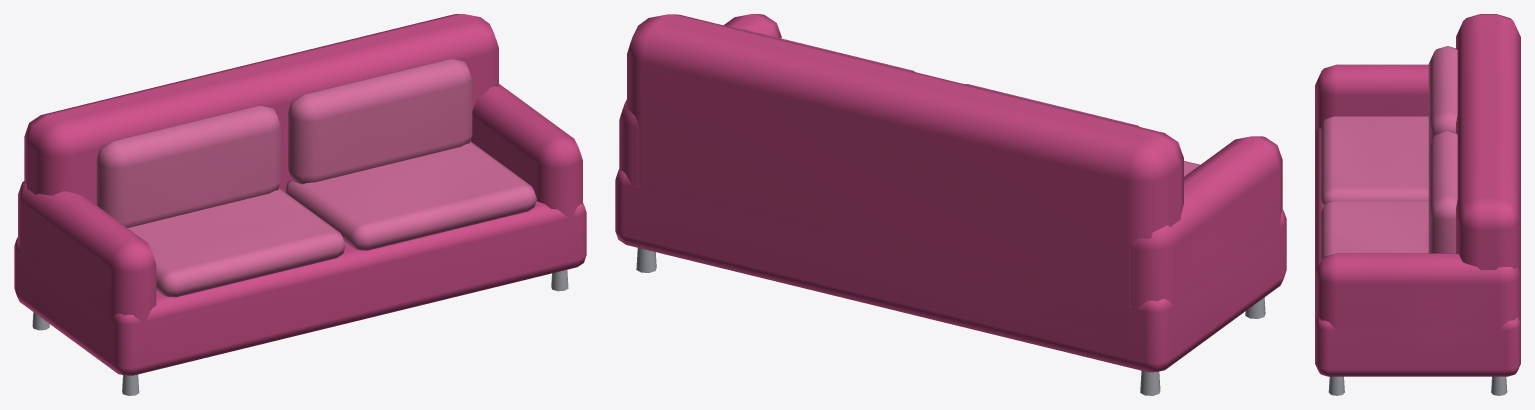
File: furn_salon_sofa.glb
The picture shows the model from 3 angles, left to right: view 1: azimuth 30°, elevation 25°; view 2: azimuth 150°, elevation 25°; view 3: azimuth 270°, elevation 25°; orthographic projection. The views are drawn at different scales.
Parts seen in each view (by area): view 1: furn_salon_sofa_main; view 2: furn_salon_sofa_main; view 3: furn_salon_sofa_main.
Boxes of the visible parts, x1,y1,x2,y2 form: furn_salon_sofa_main: (14, 14, 586, 395); furn_salon_sofa_main: (615, 14, 1286, 395); furn_salon_sofa_main: (1315, 14, 1520, 395).
Bounding box in the file's own units: 1.82 × 0.78 × 0.76.
